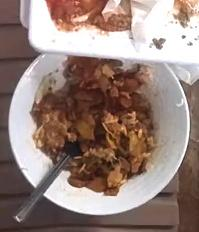taco_mix: (31, 56, 154, 194)
